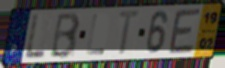6: (145, 9, 170, 56)
B: (48, 11, 82, 60)
E: (166, 7, 203, 56)
L: (23, 13, 47, 61), (85, 13, 106, 57)
T: (116, 9, 143, 59)
